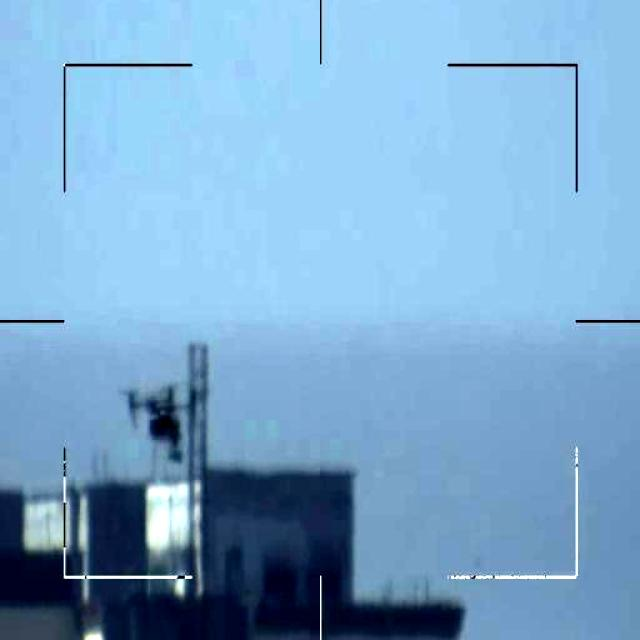bird: (128, 380, 200, 472)
